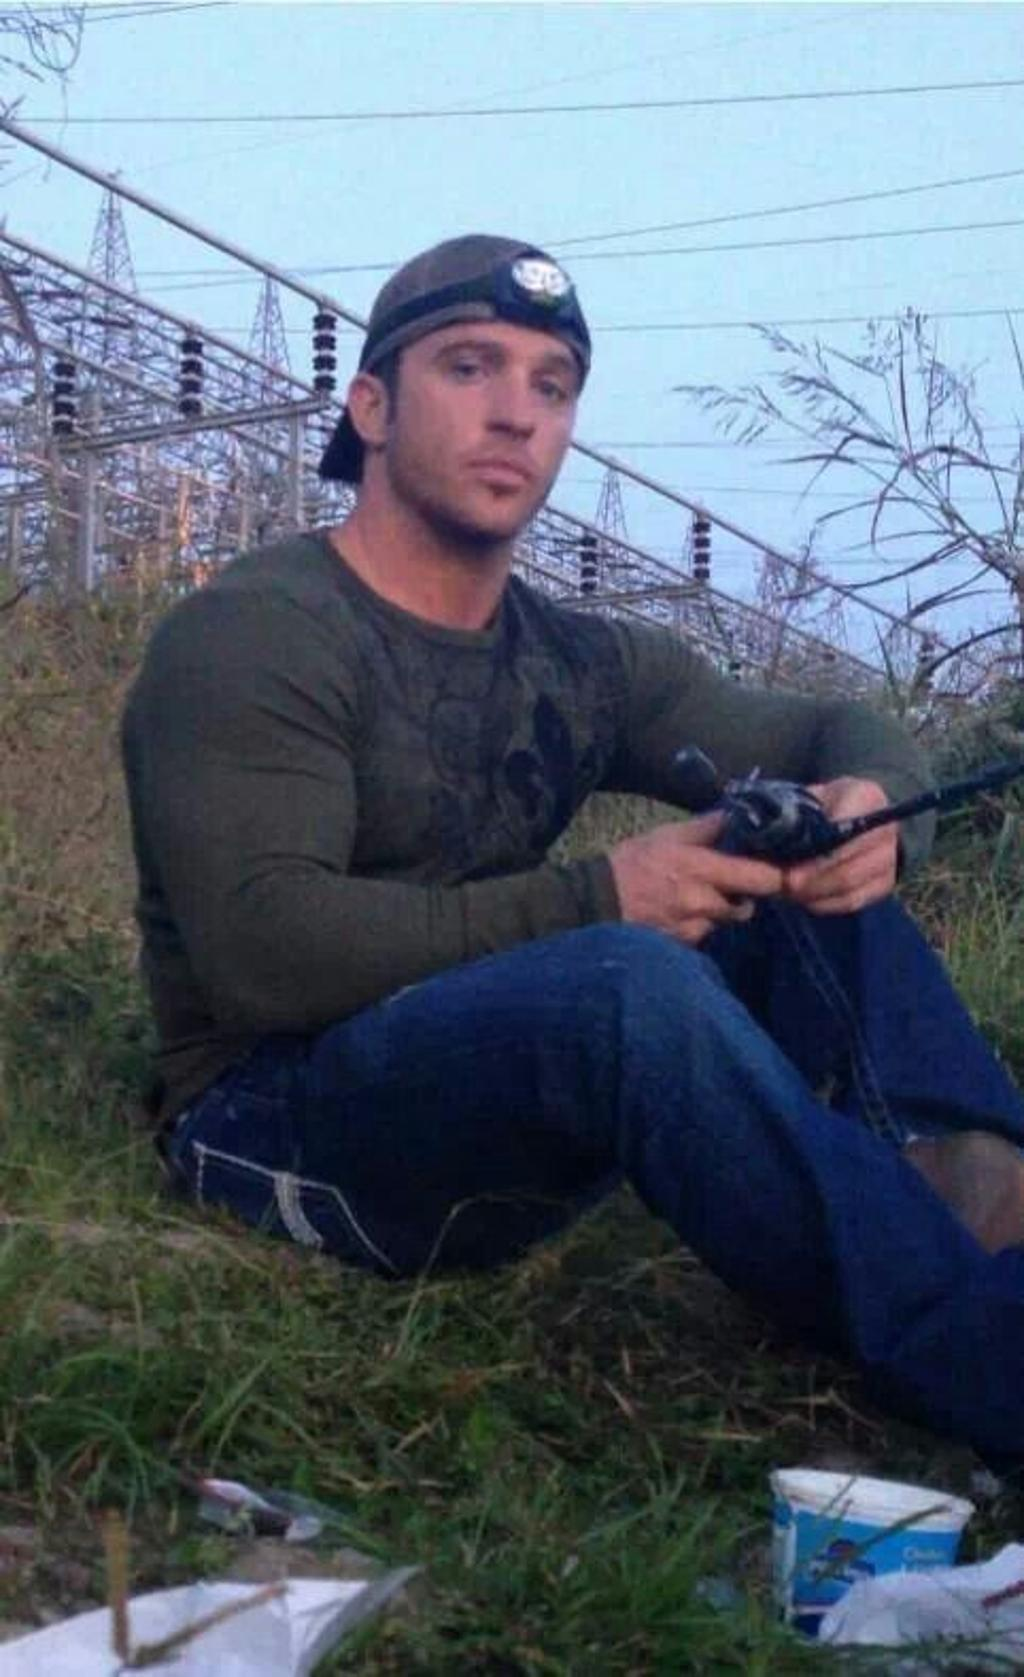face: (400, 295, 583, 544)
